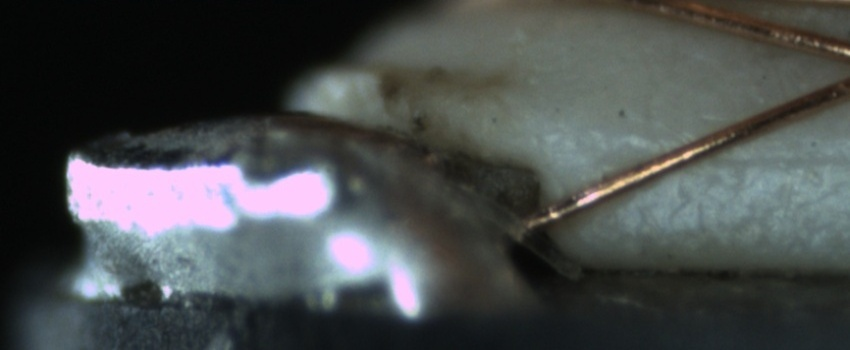DL: (676, 125, 847, 190)
